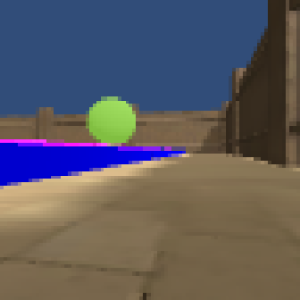goodGoal: (82, 93, 144, 148)
platform: (1, 148, 185, 185)
ramp: (1, 136, 115, 150)
